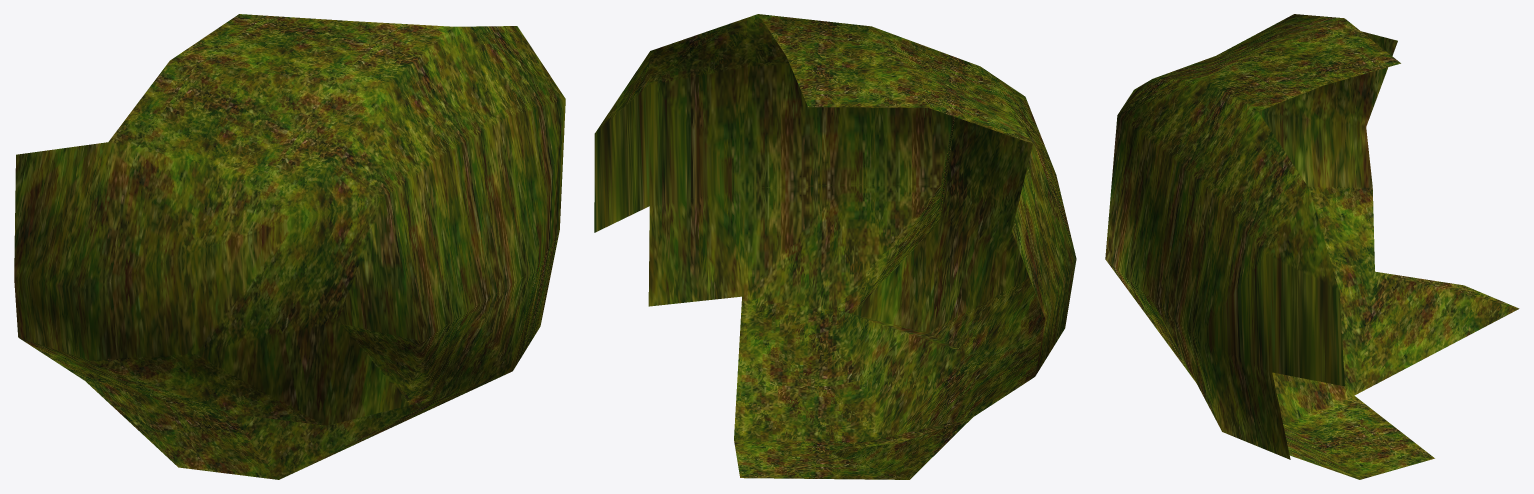
The model's file is TROLLHOLE02_RM_PSURF133.fbx.
The picture shows the model from 3 angles, left to right: view 1: azimuth 30°, elevation 25°; view 2: azimuth 150°, elevation 25°; view 3: azimuth 270°, elevation 25°; orthographic projection. The views are drawn at different scales.
Parts seen in each view (by area): view 1: TROLLHOLE02_RM_PSURF133; view 2: TROLLHOLE02_RM_PSURF133; view 3: TROLLHOLE02_RM_PSURF133.
Part boxes in pixels (x1,y1,x2,y2): TROLLHOLE02_RM_PSURF133: (14,14,565,479); TROLLHOLE02_RM_PSURF133: (594,14,1076,479); TROLLHOLE02_RM_PSURF133: (1105,14,1519,479).
Bounding box in the file's own units: 79215 × 62302 × 61343.
Materials: 1 (1 with a texture image).
